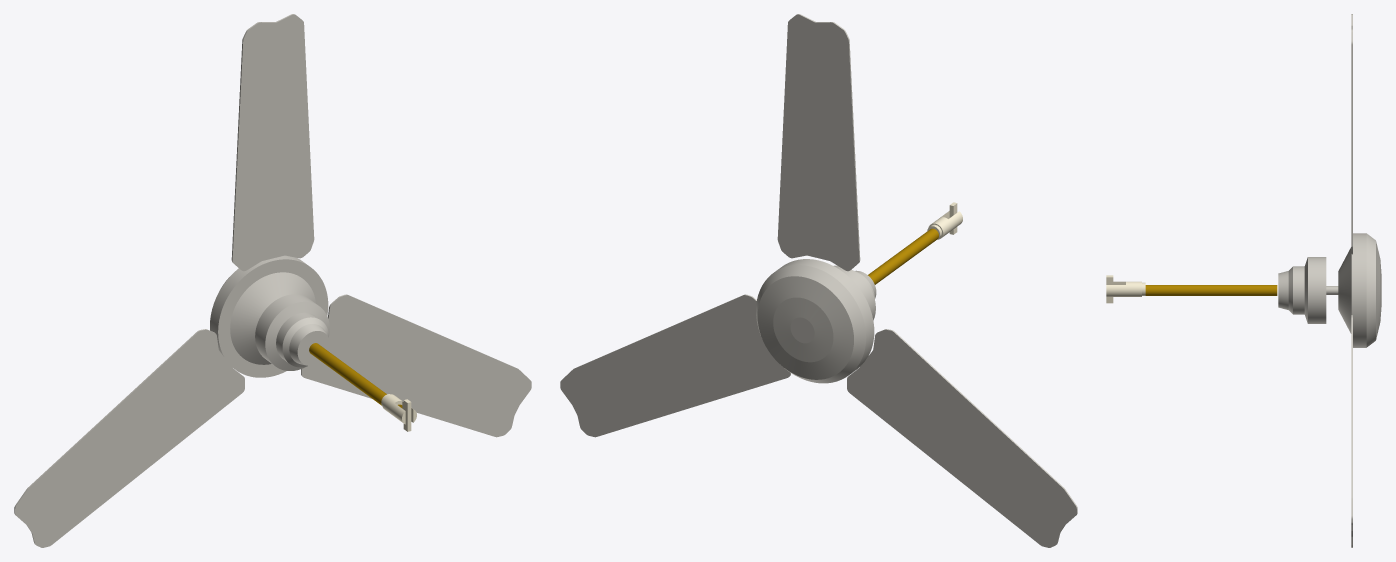
The picture shows the model from 3 angles, left to right: view 1: azimuth 30°, elevation 25°; view 2: azimuth 150°, elevation 25°; view 3: azimuth 270°, elevation 25°; orthographic projection. The views are drawn at different scales.
Parts seen in each view (by area): view 1: fan; view 2: fan; view 3: fan.
Part boxes in pixels (<box>): fan: <box>14,14,531,547</box>; fan: <box>560,14,1077,547</box>; fan: <box>1106,14,1381,547</box>.
Size of the model in its own units: 1.2 by 1.05 by 0.615.
